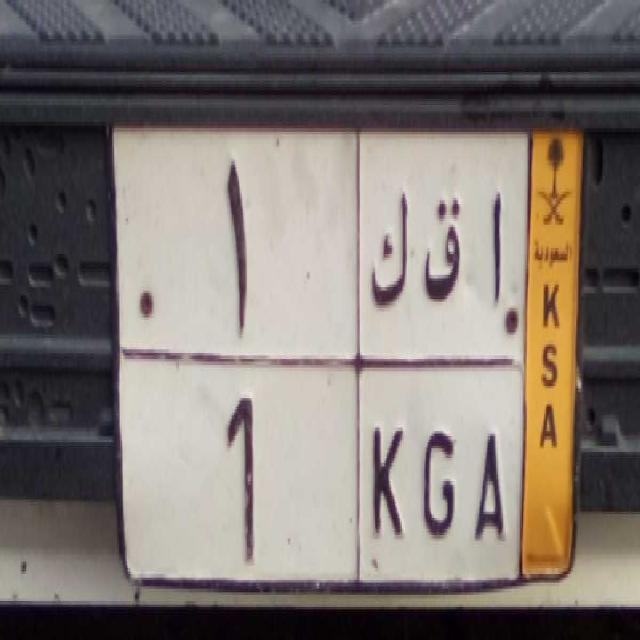license_plate: (118, 348, 521, 588)
